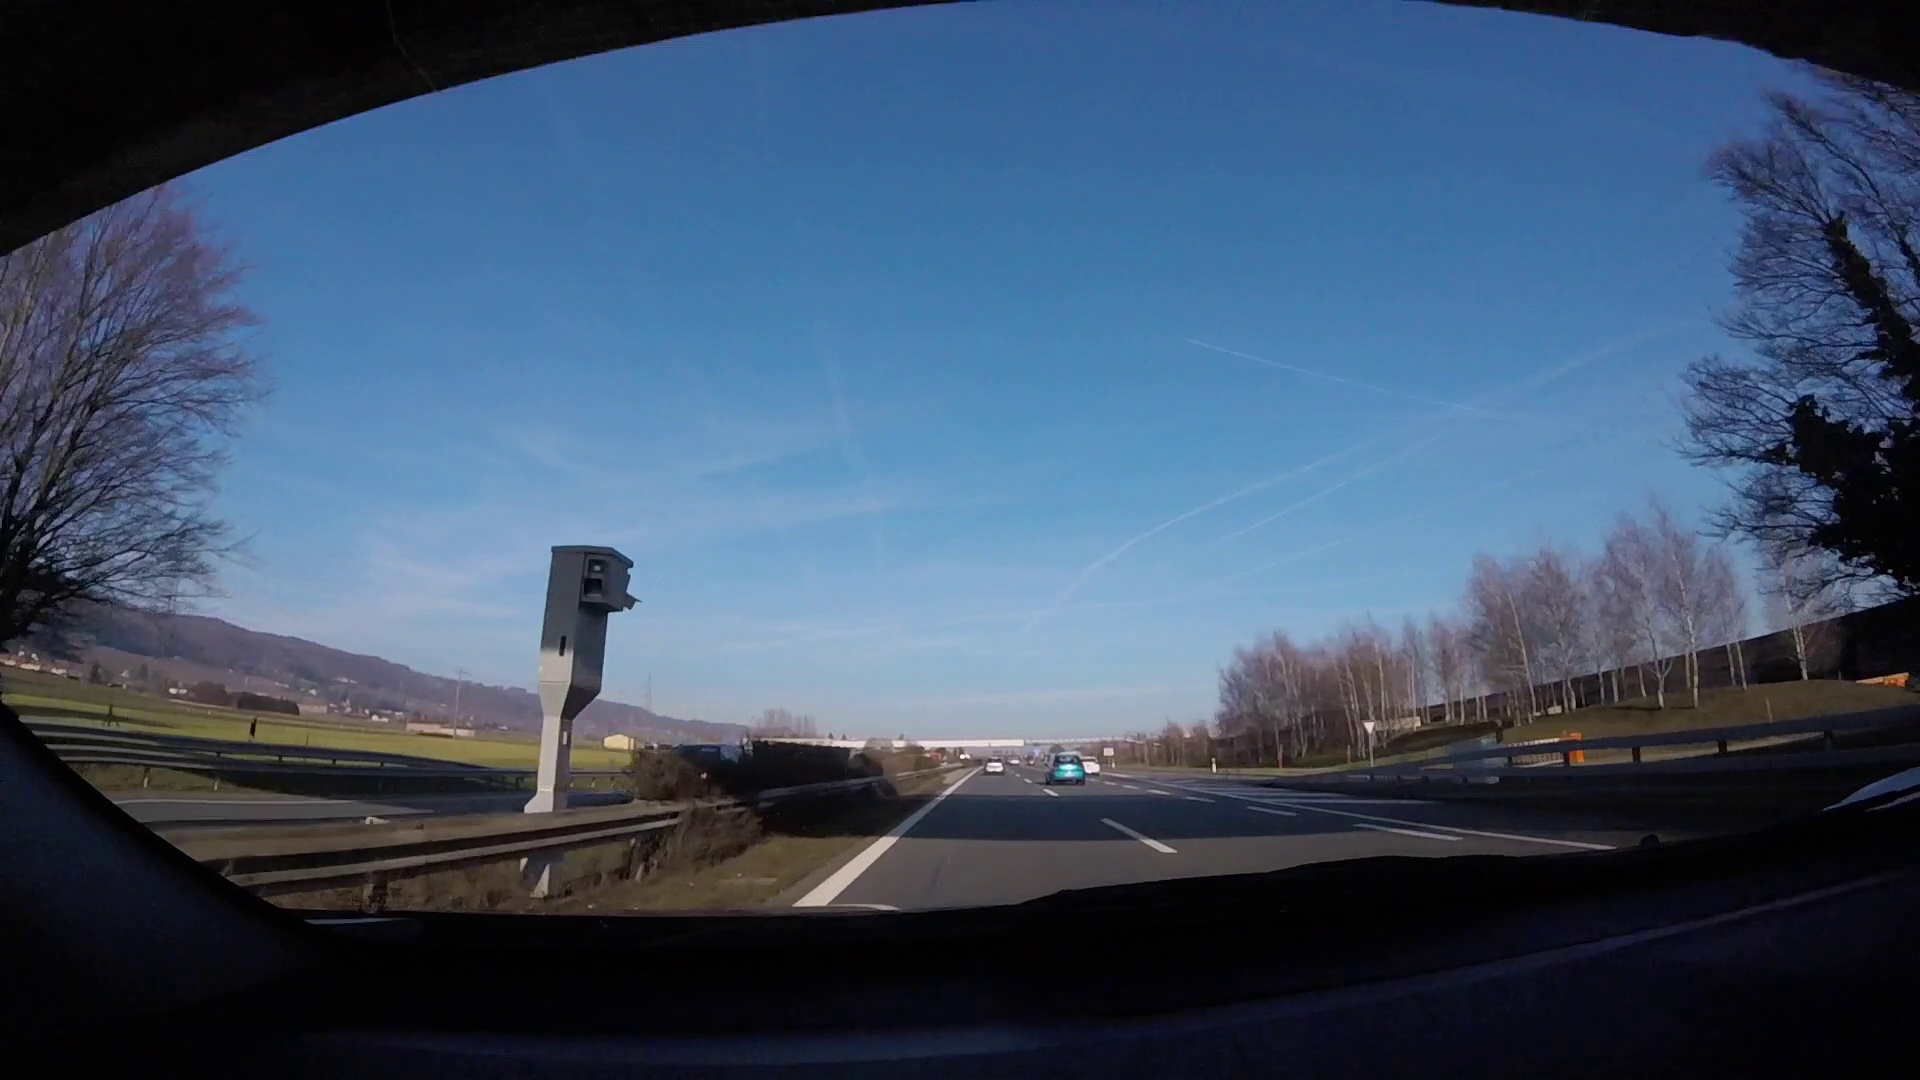radar: (535, 542, 644, 791)
